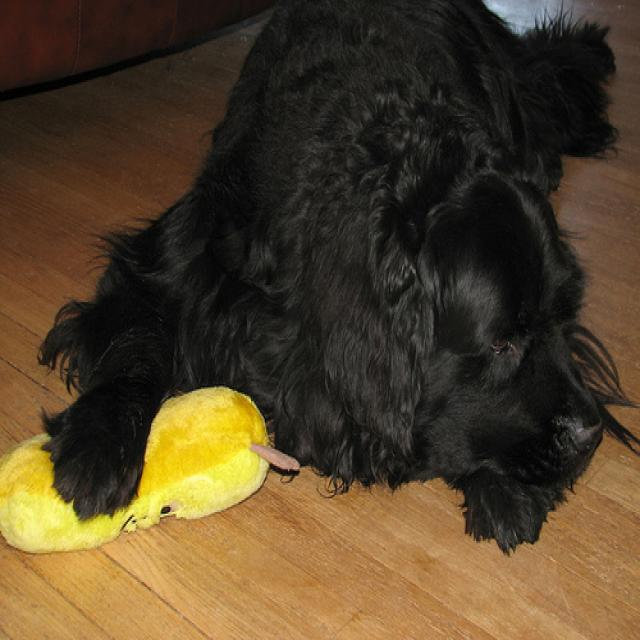dog-newfoundland: (35, 2, 616, 555)
